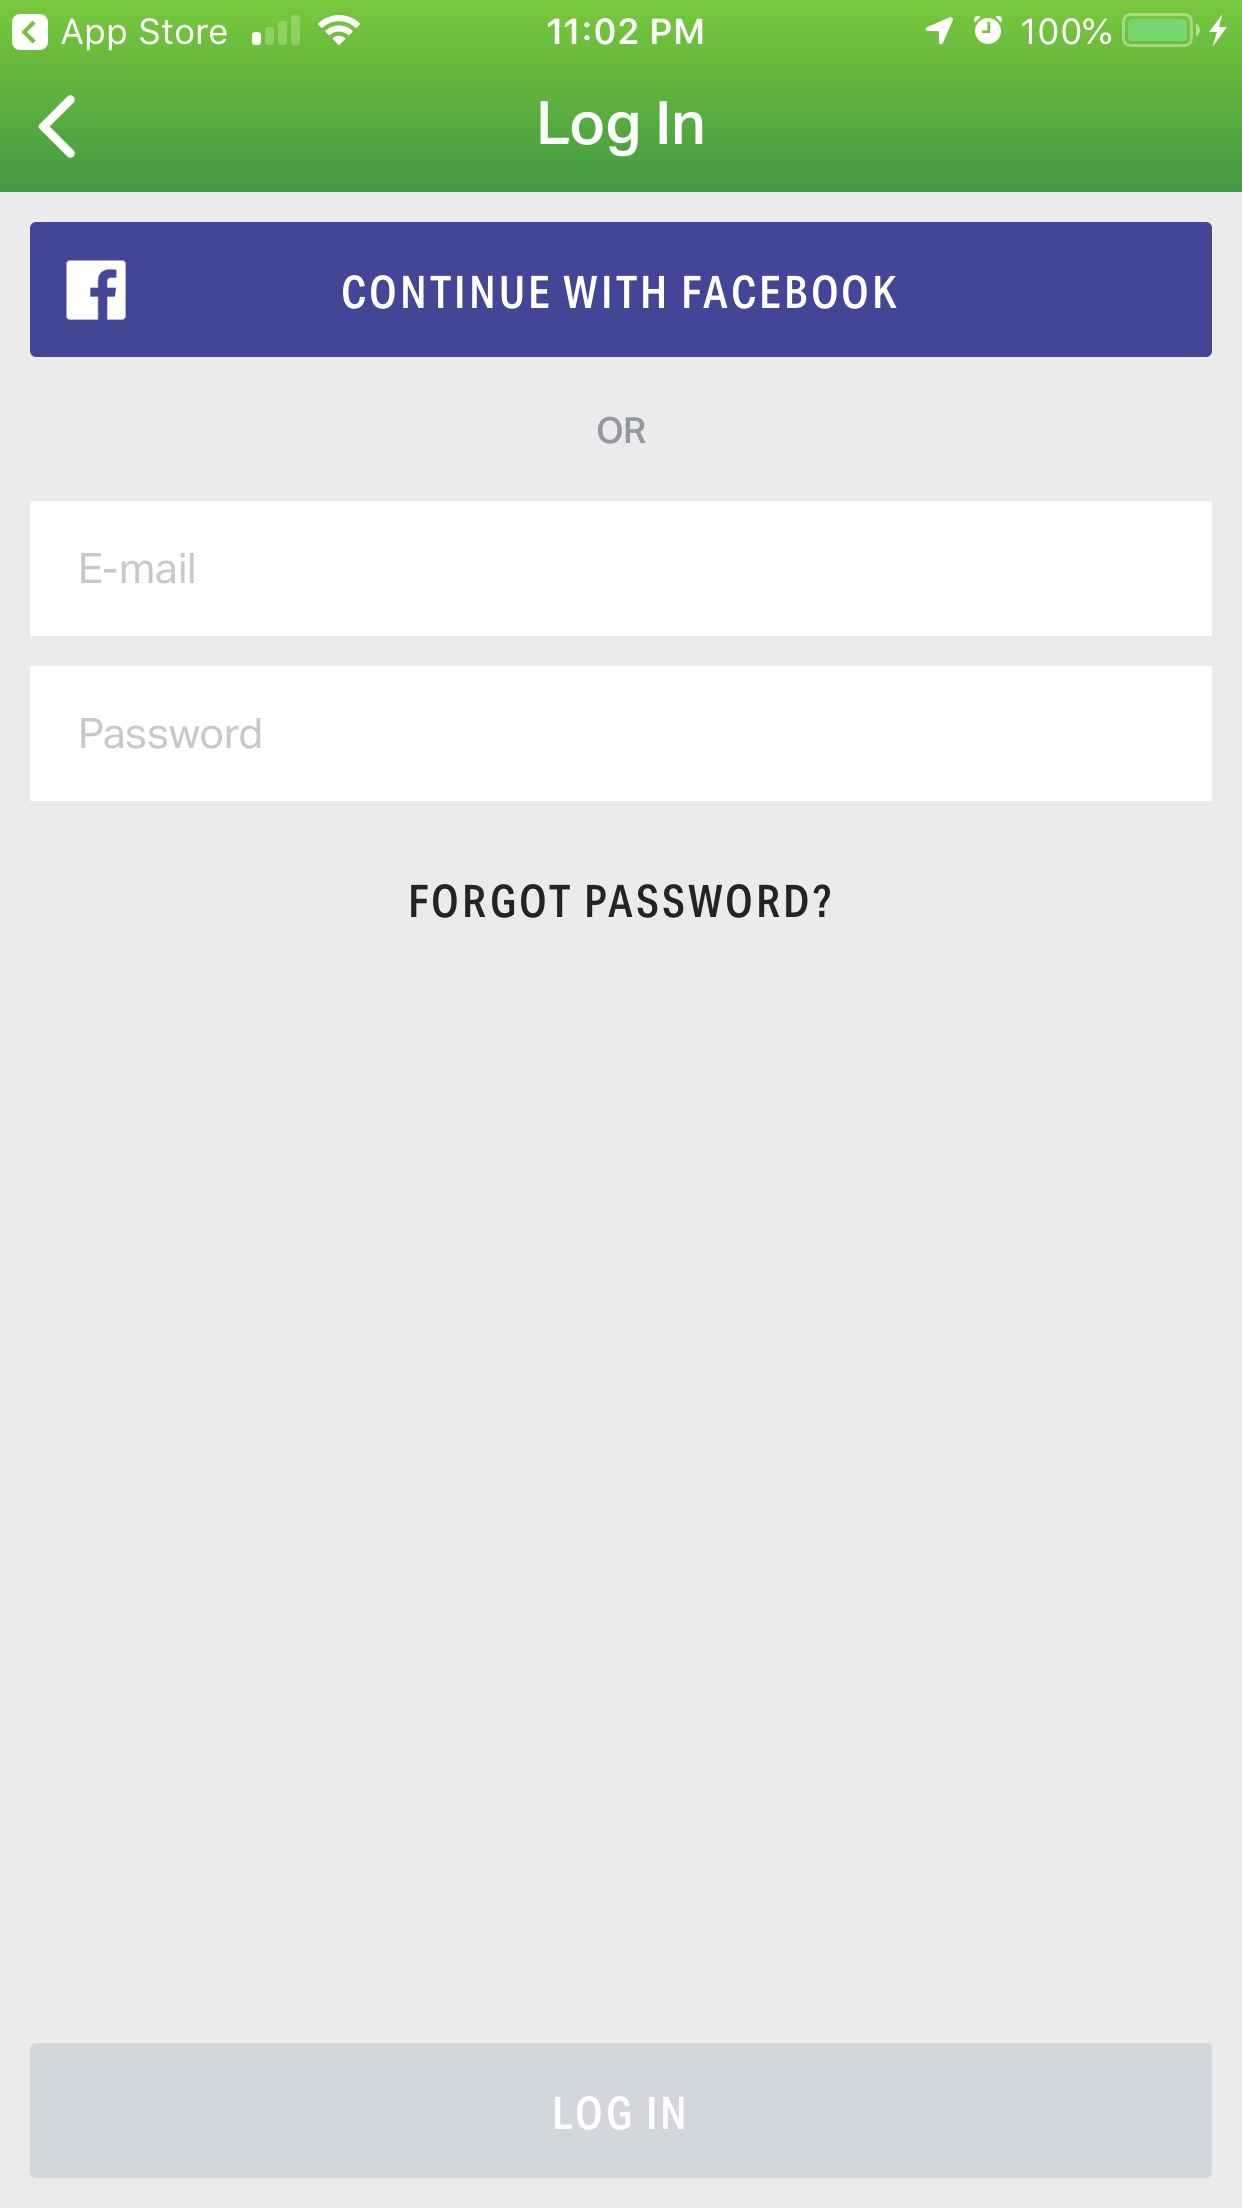EditText: (30, 502, 1215, 637), (30, 667, 1213, 802)
Icon: (38, 96, 76, 161)
Text: (411, 884, 831, 919), (540, 102, 704, 158), (82, 719, 262, 751), (82, 554, 196, 585), (599, 417, 648, 444)
TextButton: (30, 2043, 1212, 2178), (30, 223, 1212, 358)
UpperTaskBar: (2, 2, 1242, 52)
